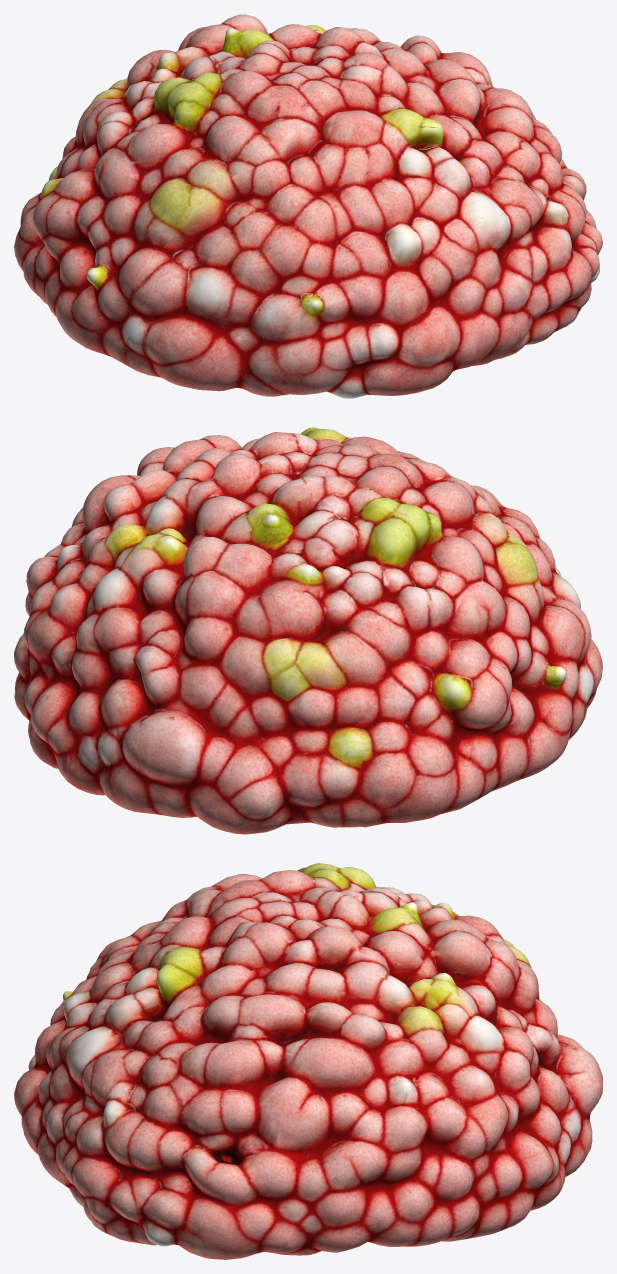
Rendered from dumpling-filling.glb.
3 views of the same model, one above another, from view 1: azimuth 30°, elevation 25°; view 2: azimuth 150°, elevation 25°; view 3: azimuth 270°, elevation 25° (orthographic). The views are drawn at different scales.
Visible parts, largest first — view 1: mesh; view 2: mesh; view 3: mesh.
Part boxes in pixels (x1,y1,x2,y2): mesh: (14, 14, 602, 398); mesh: (14, 427, 602, 834); mesh: (14, 863, 602, 1259).
Size of the model in its own units: 1.94 by 0.9762 by 2.
Materials: 1 (1 with a texture image).
